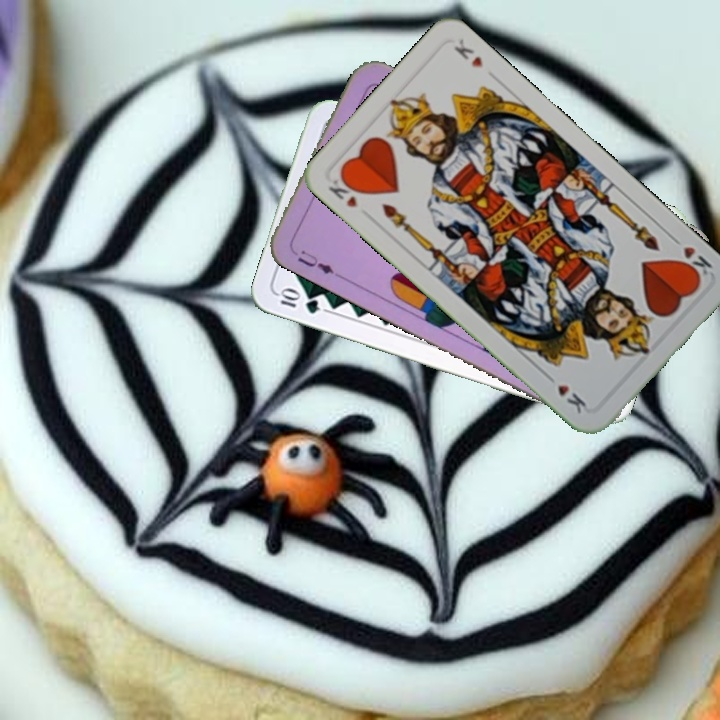EU: (286, 243, 337, 277)
G10: (274, 286, 323, 317)
HK: (674, 242, 715, 283), (324, 171, 364, 211)
